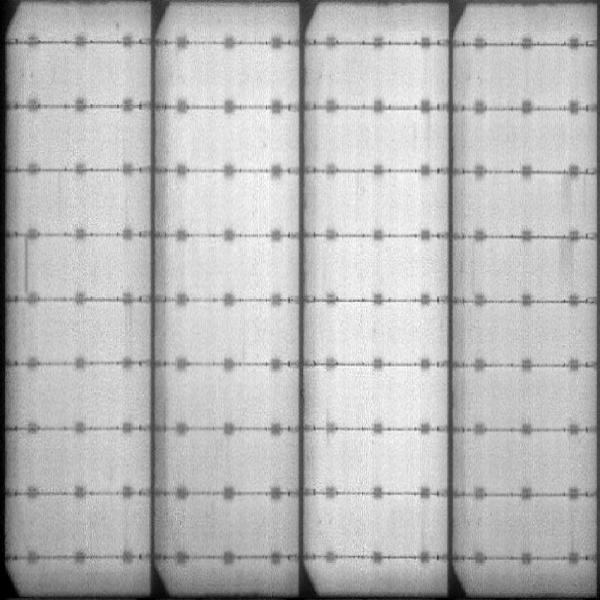scratch: (21, 240, 30, 288)
